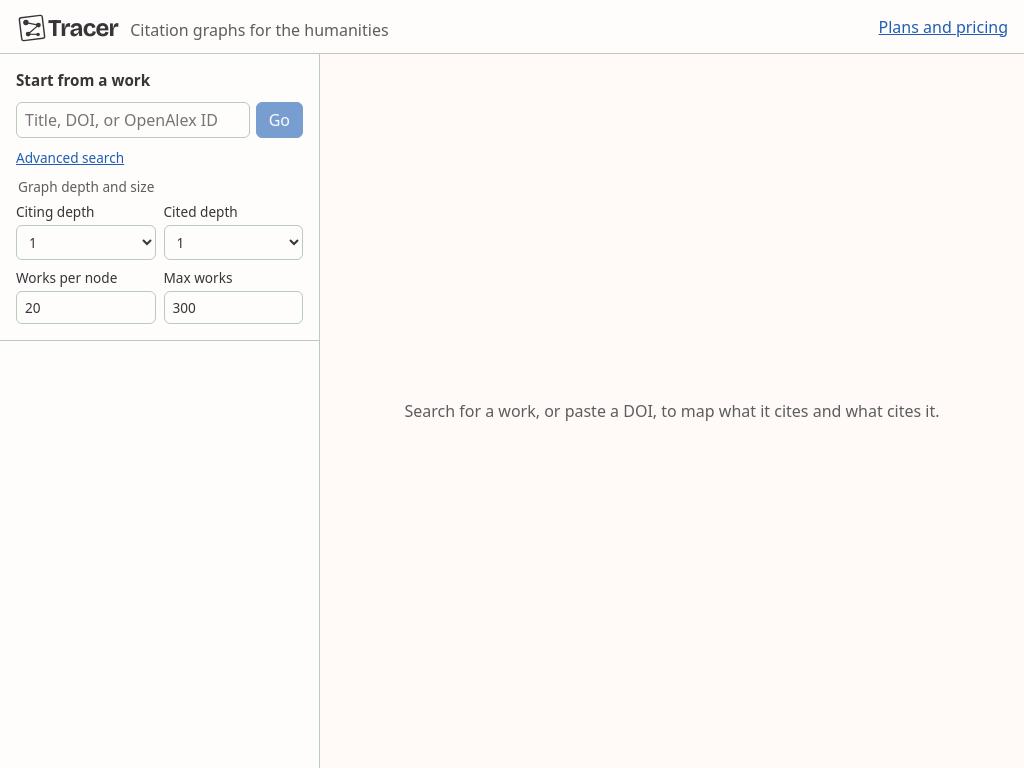
App › labels each search result with its source type
Type "moral economy" into the search field labelled "Title, DOI, or OpenAlex ID" at (133, 120), box [16,102,250,138]
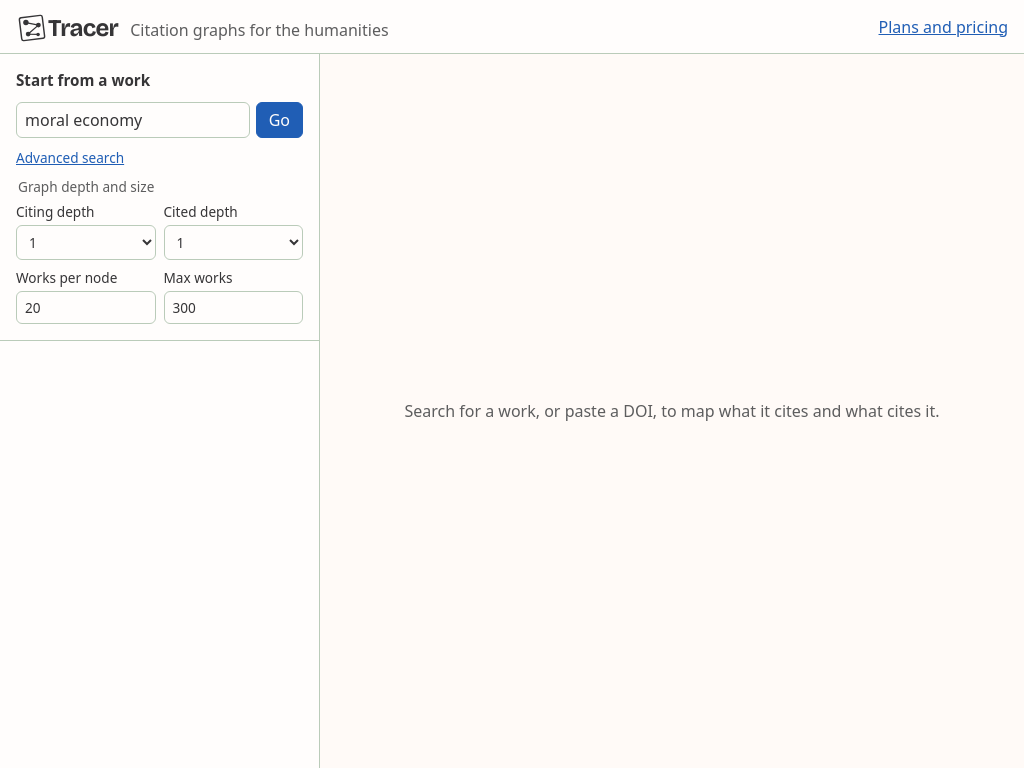
Click the button "Go" at (279, 120), box [256,102,303,138]
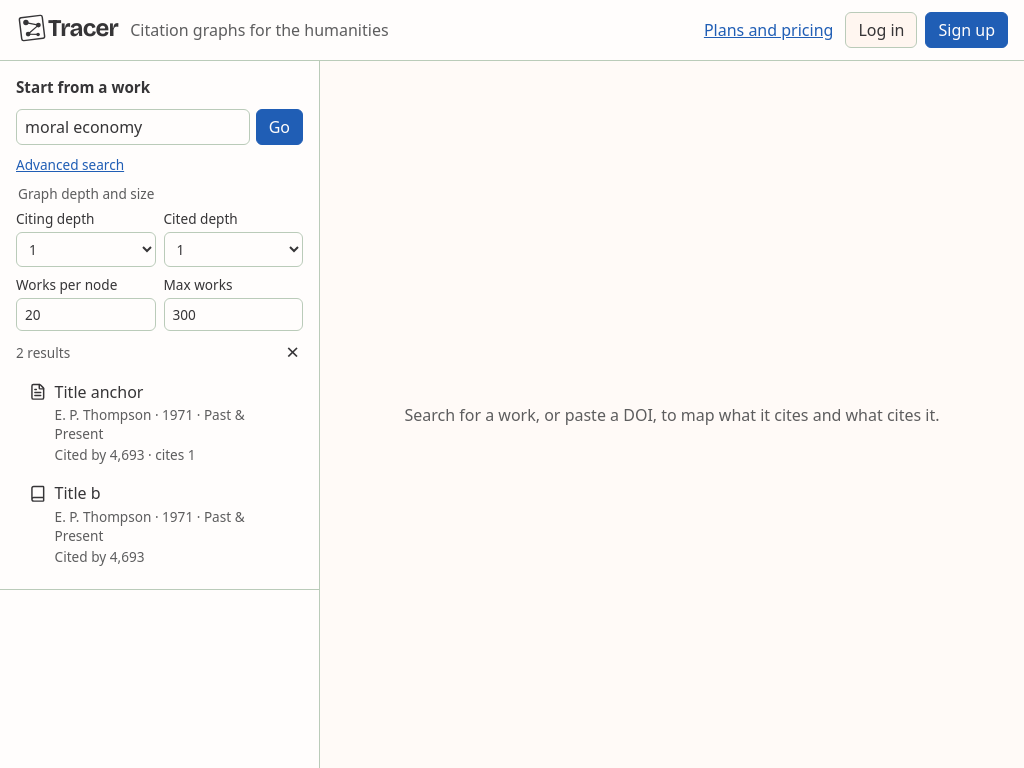
expect the button that starts with "Title anchor" is shown: met, box [16,374,303,471]
expect the button that starts with "Title b" is shown: met, box [16,475,303,573]
